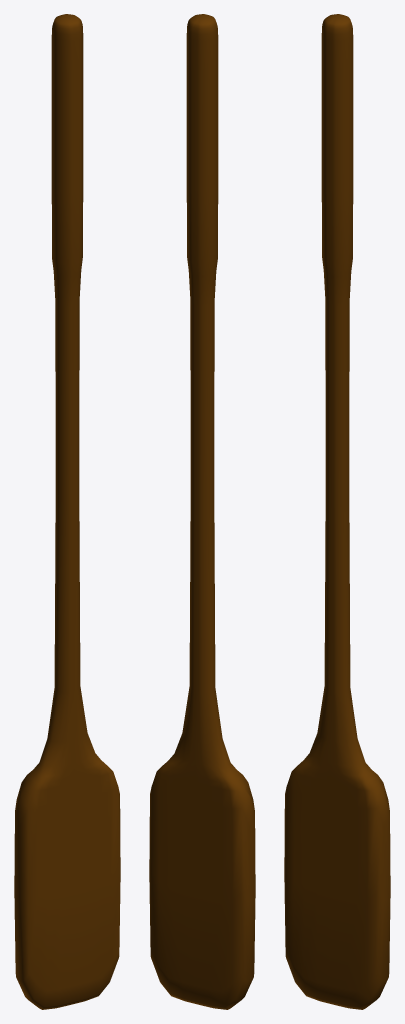
File: Oar.fbx
3 renders of one model, left to right at view 1: azimuth 30°, elevation 25°; view 2: azimuth 150°, elevation 25°; view 3: azimuth 330°, elevation 25°, orthographic.
Parts seen in each view (by area): view 1: Cube; view 2: Cube; view 3: Cube.
Boxes of the visible parts, x1=… form: Cube: x1=14, y1=14, x2=120, y2=1009; Cube: x1=149, y1=14, x2=255, y2=1009; Cube: x1=284, y1=14, x2=390, y2=1009.
Size of the model in its own units: 70.8 by 668 by 18.66.
